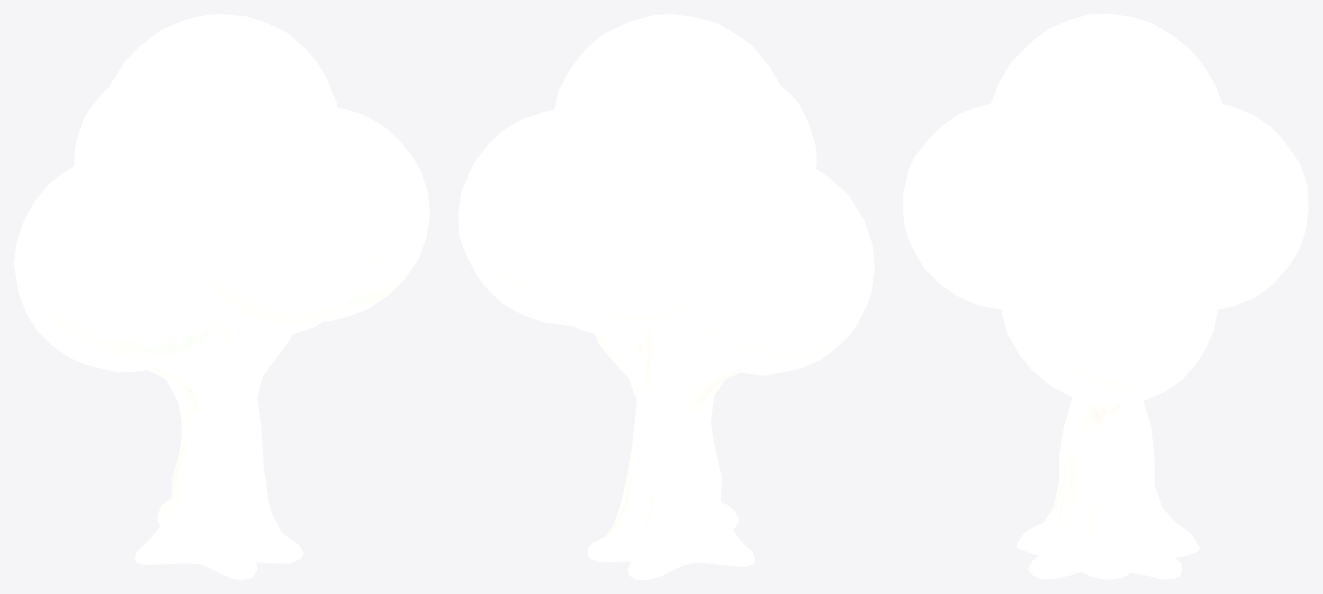
The model's file is arvore-verdejante.glb.
The picture shows the model from 3 angles, left to right: view 1: azimuth 30°, elevation 25°; view 2: azimuth 150°, elevation 25°; view 3: azimuth 270°, elevation 25°; orthographic projection.
Visible parts, largest first — view 1: mesh_node; view 2: mesh_node; view 3: mesh_node.
Part boxes in pixels (x1,y1,x2,y2): mesh_node: [14, 14, 429, 579]; mesh_node: [458, 14, 874, 579]; mesh_node: [903, 14, 1308, 579].
Size of the model in its own units: 0.7852 by 1 by 0.6973.
1 material, 1 textured.
